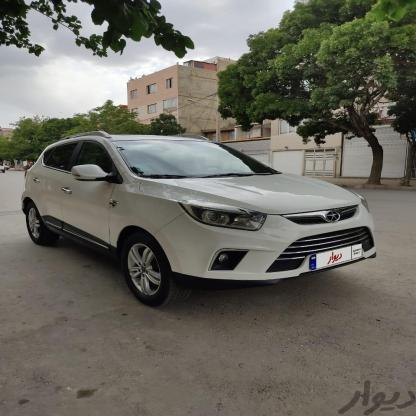Car: (11, 120, 389, 304)
